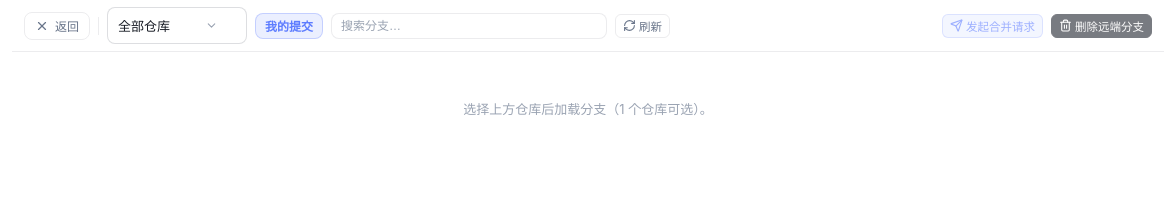
PendingMrView › marks MR state unknown when platform MR data is unavailable
Step 1. Click the dropdown labelled "全部仓库" → [177, 26], box x1=107 y1=7 x2=247 y2=44
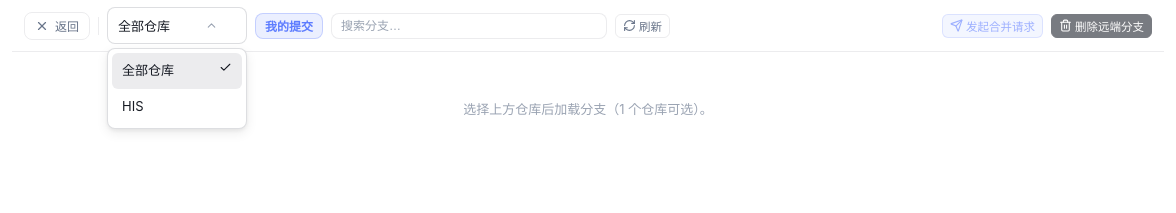
Step 2. Click the option "HIS" → [133, 106], box x1=122 y1=98 x2=144 y2=114
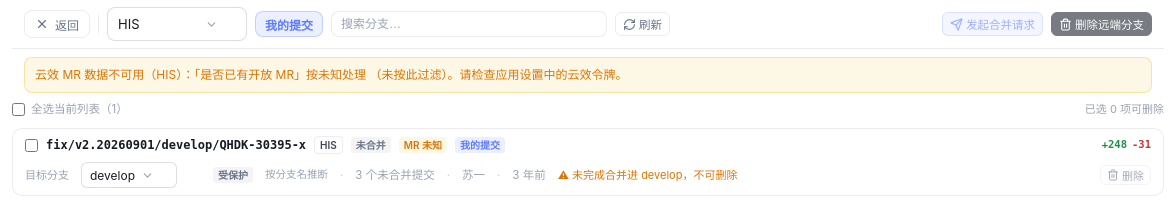
Expected: the text "云效 MR 数据不可用（HIS）：「是否已有开放 MR」按未知处理 （未按此过滤）。请检查应用设置中的云效令牌。" is shown, x1=24 y1=57 x2=1152 y2=93
Expected: the text "MR 未知" is shown, x1=399 y1=137 x2=447 y2=153
